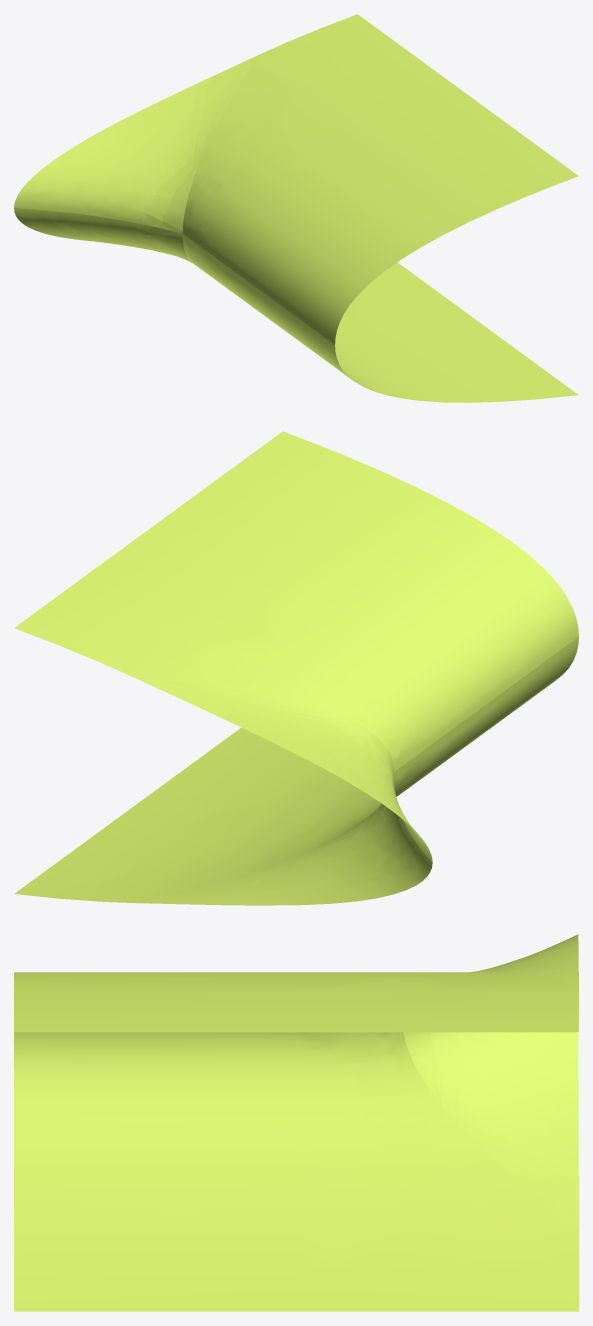
3 views of the same model, one above another, from view 1: azimuth 30°, elevation 25°; view 2: azimuth 150°, elevation 25°; view 3: azimuth 270°, elevation 25° (orthographic). The views are drawn at different scales.
Parts seen in each view (by area): view 1: avw738a63f0-2e59-47e1-9996-8c457e53e6b2-27; view 2: avw738a63f0-2e59-47e1-9996-8c457e53e6b2-27; view 3: avw738a63f0-2e59-47e1-9996-8c457e53e6b2-27.
Boxes of the visible parts, x1=… form: avw738a63f0-2e59-47e1-9996-8c457e53e6b2-27: x1=14, y1=14, x2=578, y2=402; avw738a63f0-2e59-47e1-9996-8c457e53e6b2-27: x1=14, y1=431, x2=578, y2=905; avw738a63f0-2e59-47e1-9996-8c457e53e6b2-27: x1=14, y1=934, x2=578, y2=1311.
Size of the model in its own units: 2738 by 1665 by 3050.
